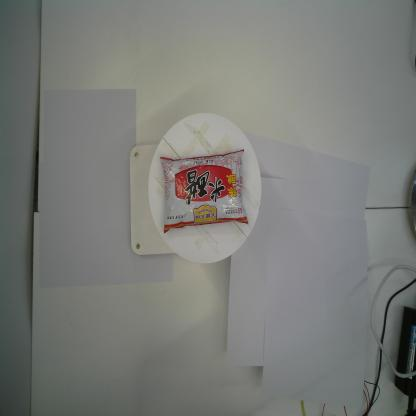Seasoner: (159, 149, 249, 235)
